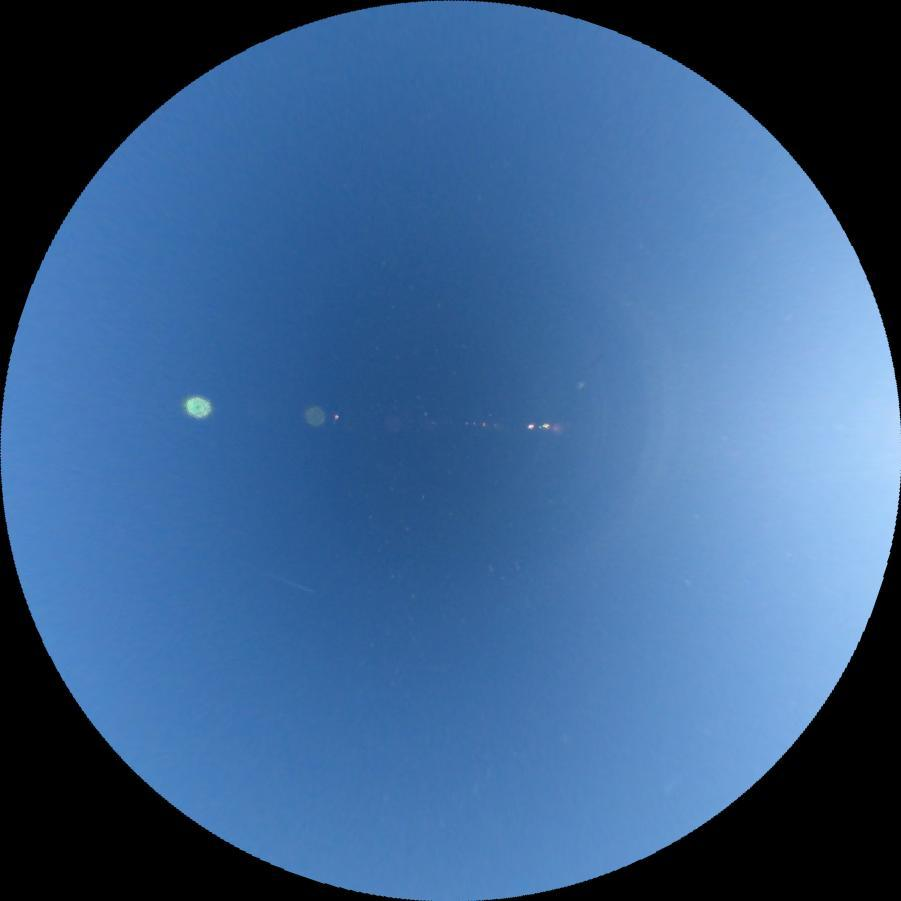contrail young: (220, 554, 317, 597)
